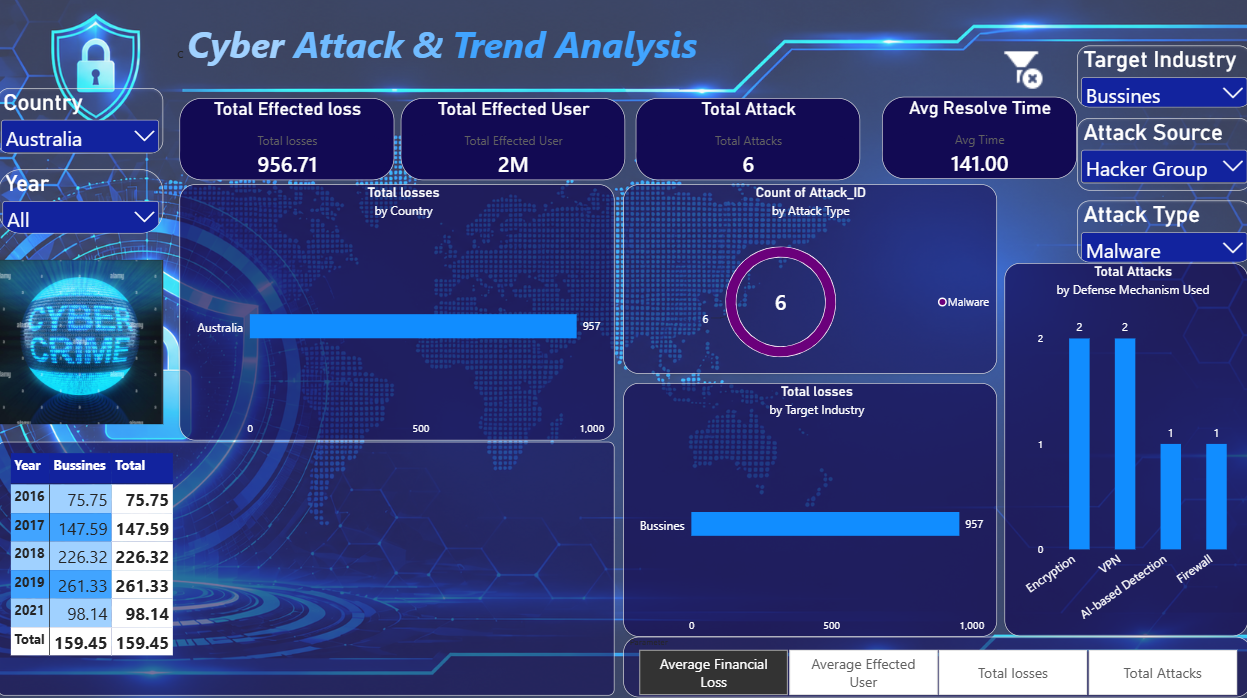

This screenshot's page, from the dashboard's own definition file:
{"tool":"powerbi","page":{"name":"Page 1","canvas":[1672,1000],"ordinal":0},"visuals":[{"type":"slicer","fields":{"Values":["Live_Telemetry_Stream.Country"]},"box":[0,147.2,221.7,87.2],"z":7},{"type":"slicer","fields":{"Values":["Attack_Directory.Attack Type"]},"box":[1439.4,296.6,233,82.5],"z":8},{"type":"slicer","fields":{"Values":["Live_Telemetry_Stream.Target Industry"]},"box":[1439.3,89.6,233,82.5],"z":9},{"type":"slicer","fields":{"Values":["Live_Telemetry_Stream.Attack Source"]},"box":[1439.4,187.2,233,96.8],"z":11},{"type":"slicer","fields":{"Values":["Live_Telemetry_Stream.Year"]},"box":[1.8,254.4,219.9,85.4],"z":12},{"type":"cardVisual","title":"Total Effected loss","fields":{"Data":["Live_Telemetry_Stream.Total losses"]},"box":[243.5,159.9,286.8,109.3],"z":13},{"type":"cardVisual","title":"Total Effected User","fields":{"Data":["Live_Telemetry_Stream.Total Effected User"]},"box":[537.9,159.9,299.3,109.3],"z":14},{"type":"cardVisual","title":"Total Attack","fields":{"Data":["Live_Telemetry_Stream.Total Attacks"]},"box":[852.4,159.9,299.3,109.3],"z":15},{"type":"cardVisual","title":"Avg Resolve Time","fields":{"Data":["Live_Telemetry_Stream.Avg Time"]},"box":[1179.6,157.5,259.9,109.3],"z":16},{"type":"barChart","fields":{"Category":["Live_Telemetry_Stream.Country"],"Y":["Live_Telemetry_Stream.Total losses"]},"box":[243.5,274.4,579.7,341.7],"z":17},{"type":"donutChart","fields":{"Category":["Attack_Directory.Attack Type"],"Y":["CountNonNull(Live_Telemetry_Stream.Attack_ID)"]},"box":[835.3,274.2,498.3,252.7],"z":18},{"type":"pivotTable","fields":{"Columns":["Live_Telemetry_Stream.Target Industry"],"Rows":["Live_Telemetry_Stream.Year"],"Values":["cybersecuirity_dataset.Average Financial Loss"]},"box":[1.8,617.9,821.5,338],"z":19},{"type":"columnChart","fields":{"Category":["Live_Telemetry_Stream.Defense Mechanism Used"],"Y":["Live_Telemetry_Stream.Total Attacks"]},"box":[1343.8,380.4,325.1,497.7],"z":21},{"type":"barChart","fields":{"Category":["Live_Telemetry_Stream.Target Industry"],"Y":["Live_Telemetry_Stream.Total losses"]},"box":[835.3,539.5,498.3,338.8],"z":22},{"type":"slicer","fields":{"Values":["Parameter.Parameter"]},"box":[834.5,878,837.8,80.4],"z":23},{"type":"textbox","box":[240.2,55.6,749.2,68.1],"z":24},{"type":"image","box":[1310.3,89.6,111.1,57.4],"z":25},{"type":"image","box":[1.8,352.6,219.9,263.5],"z":26}]}

Visuals, with their boxes on the page's 1672x1000 design canvas (x1, y1, x2, y2). These are canvas units, not pixel positions in the 1247x698 screenshot, which may show the page scaled, cropped or inside an application window:
slicer - Live_Telemetry_Stream.Country: bbox=[0, 147, 222, 234]
slicer - Attack_Directory.Attack Type: bbox=[1439, 297, 1672, 379]
slicer - Live_Telemetry_Stream.Target Industry: bbox=[1439, 90, 1672, 172]
slicer - Live_Telemetry_Stream.Attack Source: bbox=[1439, 187, 1672, 284]
slicer - Live_Telemetry_Stream.Year: bbox=[2, 254, 222, 340]
"Total Effected loss" cardVisual: bbox=[244, 160, 530, 269]
"Total Effected User" cardVisual: bbox=[538, 160, 837, 269]
"Total Attack" cardVisual: bbox=[852, 160, 1152, 269]
"Avg Resolve Time" cardVisual: bbox=[1180, 158, 1440, 267]
barChart - Live_Telemetry_Stream.Country x Live_Telemetry_Stream.Total losses: bbox=[244, 274, 823, 616]
donutChart - Attack_Directory.Attack Type x CountNonNull(Live_Telemetry_Stream.Attack_ID): bbox=[835, 274, 1334, 527]
pivotTable - Live_Telemetry_Stream.Target Industry x Live_Telemetry_Stream.Year: bbox=[2, 618, 823, 956]
columnChart - Live_Telemetry_Stream.Defense Mechanism Used x Live_Telemetry_Stream.Total Attacks: bbox=[1344, 380, 1669, 878]
barChart - Live_Telemetry_Stream.Target Industry x Live_Telemetry_Stream.Total losses: bbox=[835, 540, 1334, 878]
slicer - Parameter.Parameter: bbox=[834, 878, 1672, 958]
textbox: bbox=[240, 56, 989, 124]
image: bbox=[1310, 90, 1421, 147]
image: bbox=[2, 353, 222, 616]
